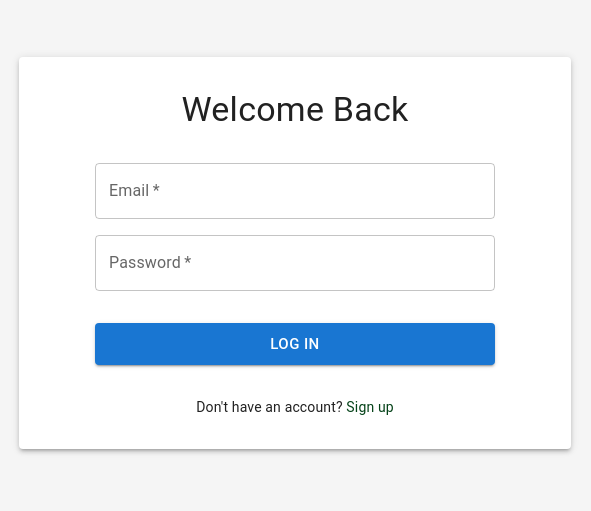
Test case: Auth Integration - Login › shows error message for invalid credentials
Step 1. Type "invalid@example.com" into the field labelled "Email *" → (295, 191), box [95,163,495,219]
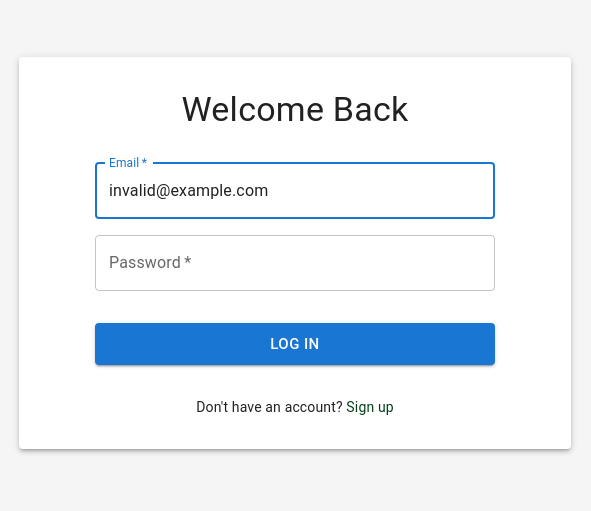
Step 2. Type "wrongpass" into the password field labelled "Password *" → (295, 263), box [95,235,495,291]
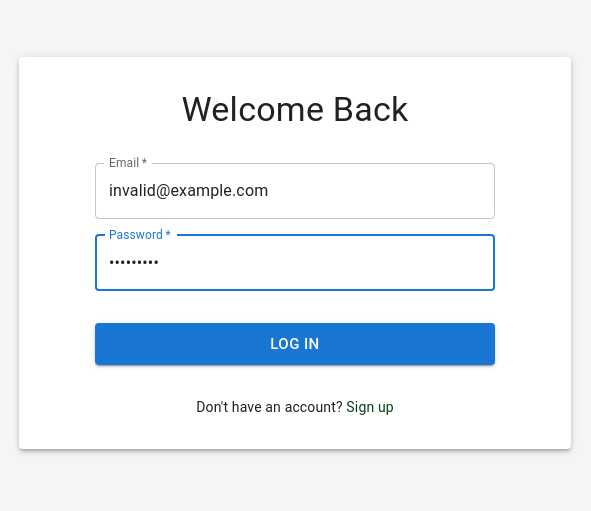
Step 3. Click the button "Log In" → (295, 344), box [95,323,495,365]
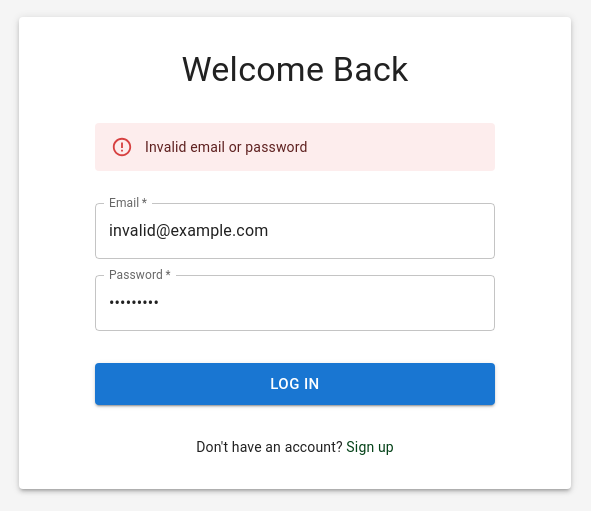
Expected: the message "Invalid email or password" is shown, [95,123,495,171]
